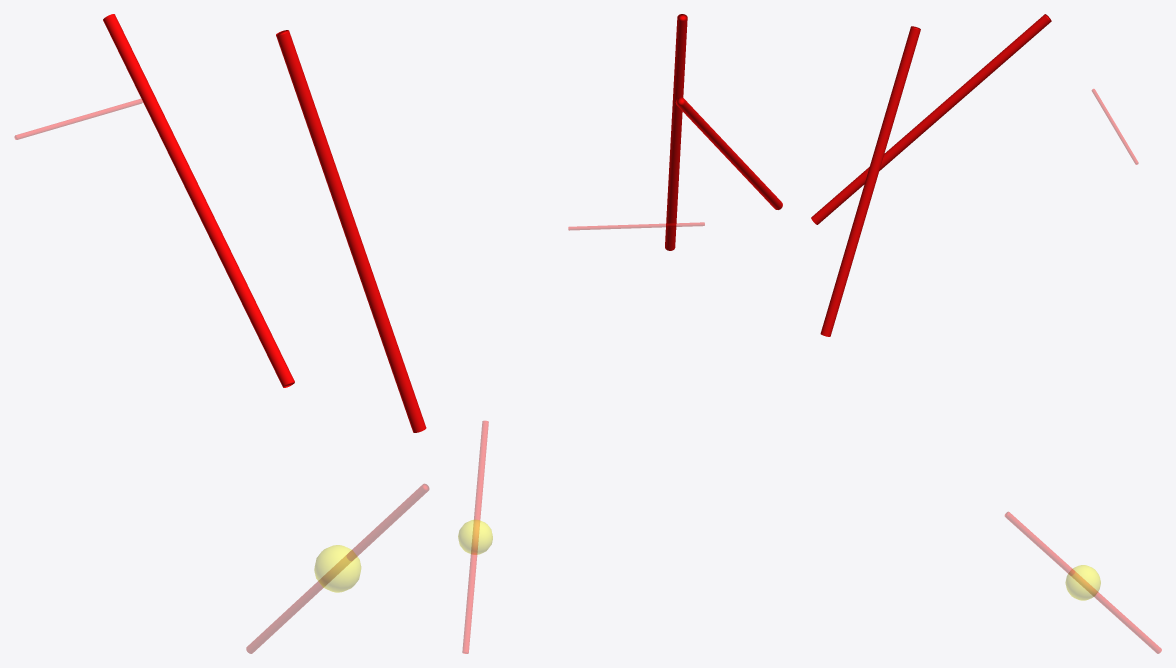
File: candidate.gltf
3 renders of one model, left to right at view 1: azimuth 30°, elevation 25°; view 2: azimuth 150°, elevation 25°; view 3: azimuth 270°, elevation 25°, orthographic. The views are drawn at different scales.
Bounding box in the file's own units: 12.94 × 26.81 × 14.71.
